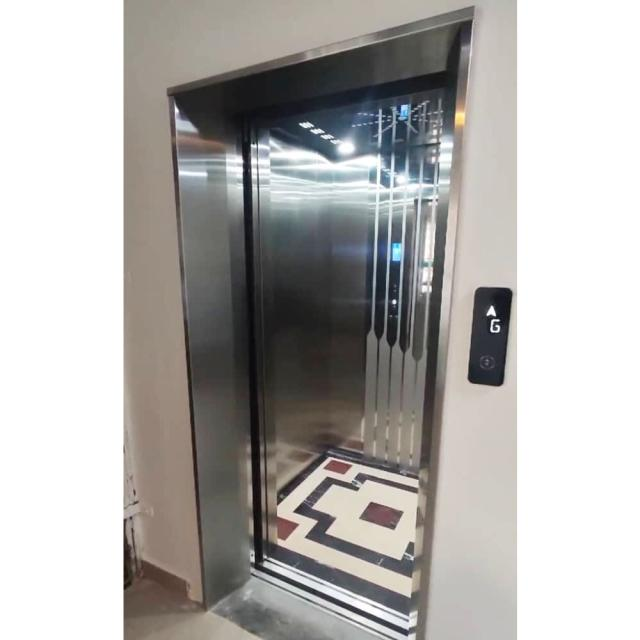elevator: (156, 0, 525, 640)
